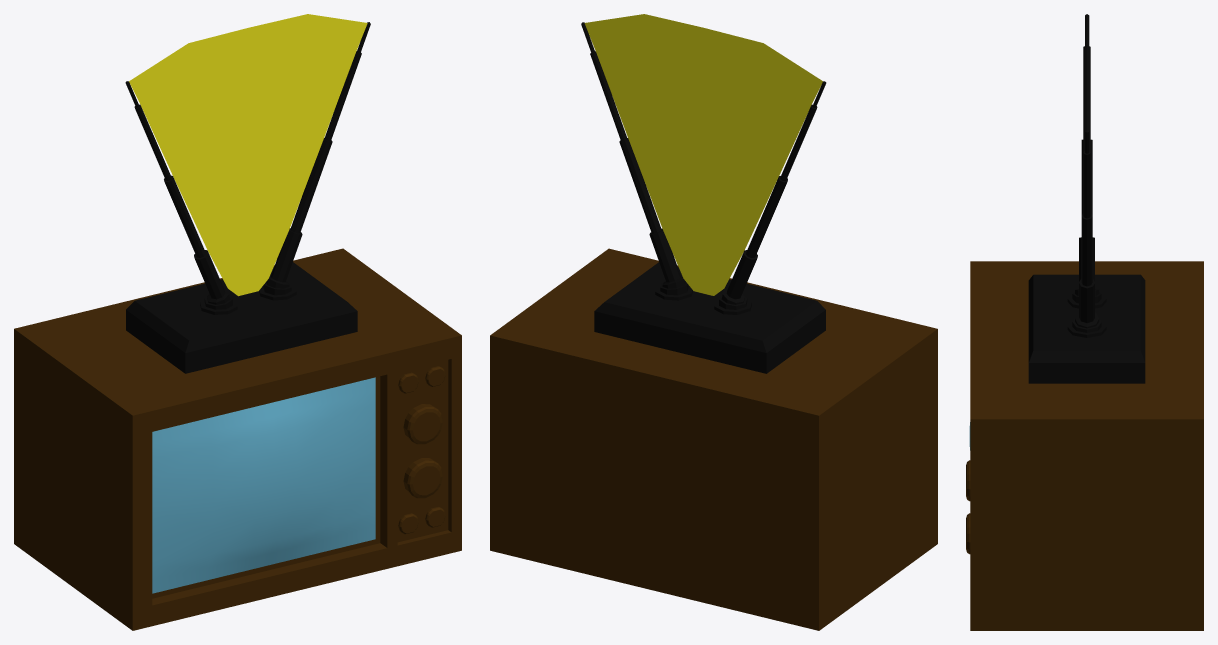
3 renders of one model, left to right at view 1: azimuth 30°, elevation 25°; view 2: azimuth 150°, elevation 25°; view 3: azimuth 270°, elevation 25°, orthographic.
Parts seen in each view (by area): view 1: Object001; view 2: Object001; view 3: Object001.
Boxes of the visible parts, box(x1,y1,x2,y2) form: Object001: box(14, 14, 461, 630); Object001: box(490, 14, 937, 630); Object001: box(966, 14, 1203, 630).
Size of the model in its own units: 31.5 by 47.28 by 20.04.
